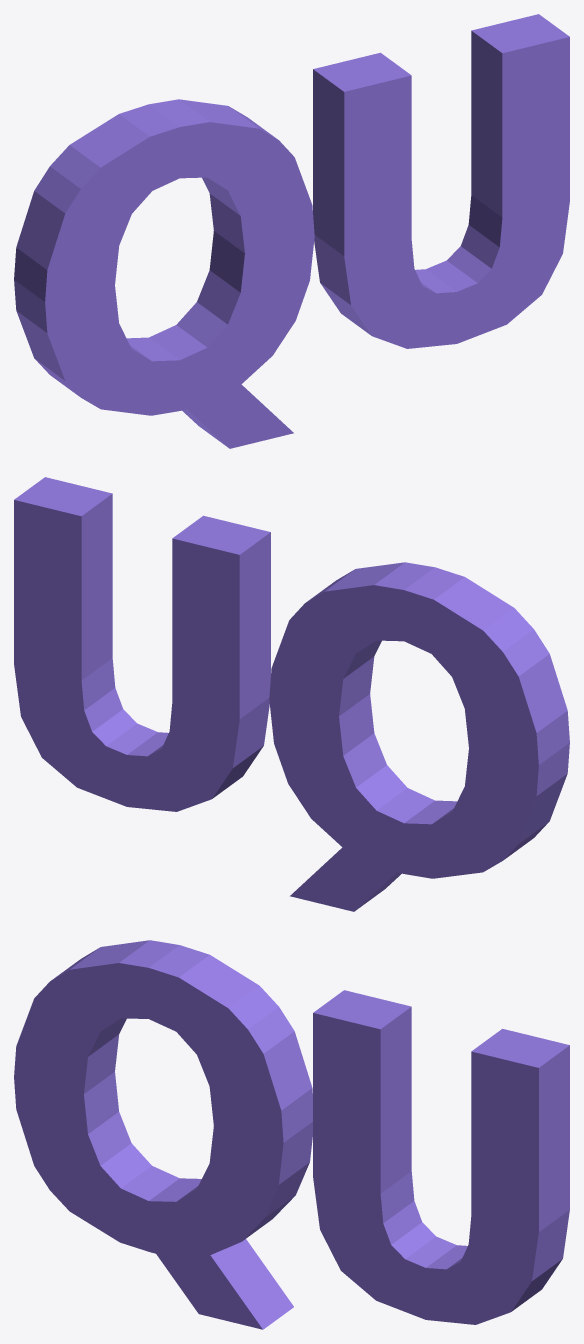
File: suku_besar_qu.glb
3 views of the same model, one above another, from view 1: azimuth 30°, elevation 25°; view 2: azimuth 150°, elevation 25°; view 3: azimuth 330°, elevation 25° (orthographic).
Parts seen in each view (by area): view 1: geometry_0; view 2: geometry_0; view 3: geometry_0.
Part boxes in pixels (bbox=[...]): geometry_0: bbox=[14, 14, 569, 448]; geometry_0: bbox=[14, 477, 569, 911]; geometry_0: bbox=[14, 940, 569, 1329].
Bounding box in the file's own units: 14.6 × 8.88 × 1.5.
